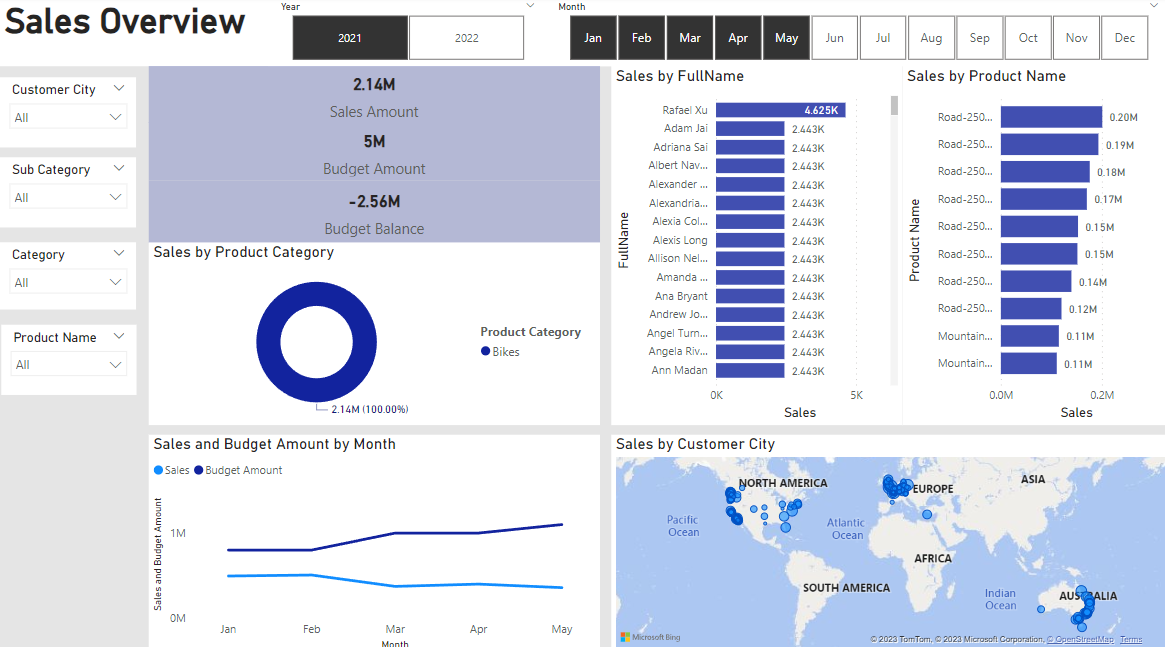

The dashboard page shown, as its layout file describes it:
{"tool":"powerbi","page":{"name":"Sales Overview","canvas":[1280,720],"ordinal":0},"visuals":[{"type":"textbox","box":[0,0,1279.8,76.6],"z":0},{"type":"slicer","fields":{"Values":["DIM_Customers.Customer City"]},"box":[0,88.9,149,76.6],"z":1000},{"type":"slicer","fields":{"Values":["DIM_Products.Sub Category"]},"box":[0,176.4,149,76.6],"z":2000},{"type":"slicer","fields":{"Values":["DIM_Products.Product Category"]},"box":[0,269.4,149,73.8],"z":3000},{"type":"slicer","fields":{"Values":["DIM_Products.Product Name"]},"box":[1.4,359.6,147.7,76.6],"z":4000},{"type":"slicer","fields":{"Values":["DIM_Calendar.Year"]},"box":[294,0,303.5,76.6],"z":5000},{"type":"slicer","fields":{"Values":["DIM_Calendar.Month"]},"box":[597.5,0,682.3,76.6],"z":6000},{"type":"donutChart","fields":{"Y":["FCT_InternetSales.Sales"],"Series":["DIM_Products.Product Category"]},"box":[162.7,269.4,493.6,199.6],"z":7000},{"type":"barChart","fields":{"Category":["DIM_Customers.FullName"],"Y":["FCT_InternetSales.Sales"]},"box":[668.6,76.6,318.6,392.4],"z":8000},{"type":"lineChart","fields":{"Y":["FCT_InternetSales.Sales","Budget.Budget Amount 2"],"Category":["DIM_Calendar.Month"]},"box":[162.7,479.9,493.6,240.6],"z":9000},{"type":"barChart","fields":{"Y":["FCT_InternetSales.Sales"],"Category":["DIM_Products.Product Name"]},"box":[987.2,76.6,292.6,392.4],"z":10000},{"type":"map","fields":{"Category":["DIM_Customers.Customer City"],"Size":["FCT_InternetSales.Sales"]},"box":[668.6,479.9,611.2,240.6],"z":11000},{"type":"card","fields":{"Values":["FCT_InternetSales.Sales"]},"box":[162.7,76.6,493.6,61.5],"z":12000},{"type":"card","fields":{"Values":["Budget.Budget Amount 2"]},"box":[162.7,138.1,493.6,64.3],"z":13000},{"type":"card","fields":{"Values":["Budget.Sales-Budget 2"]},"box":[162.7,202.4,493.6,67],"z":14000}]}

Visuals, with their boxes in screenshot pixels (x1, y1, x2, y2), scaled from the page's 1280x720 canvas onto the 1165x647 screenshot:
textbox: 0:0:1164:69
slicer - DIM_Customers.Customer City: 0:80:136:149
slicer - DIM_Products.Sub Category: 0:159:136:227
slicer - DIM_Products.Product Category: 0:242:136:308
slicer - DIM_Products.Product Name: 1:323:136:392
slicer - DIM_Calendar.Year: 268:0:544:69
slicer - DIM_Calendar.Month: 544:0:1164:69
donutChart - FCT_InternetSales.Sales x DIM_Products.Product Category: 148:242:597:421
barChart - DIM_Customers.FullName x FCT_InternetSales.Sales: 609:69:899:421
lineChart - FCT_InternetSales.Sales x Budget.Budget Amount 2: 148:431:597:646
barChart - FCT_InternetSales.Sales x DIM_Products.Product Name: 899:69:1164:421
map - DIM_Customers.Customer City x FCT_InternetSales.Sales: 609:431:1164:646
card - FCT_InternetSales.Sales: 148:69:597:124
card - Budget.Budget Amount 2: 148:124:597:182
card - Budget.Sales-Budget 2: 148:182:597:242
